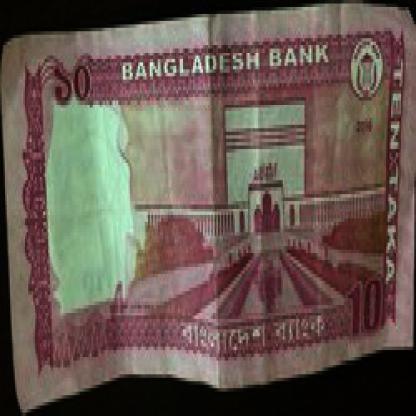Ten Taka: (340, 243, 386, 350), (50, 38, 103, 121)
